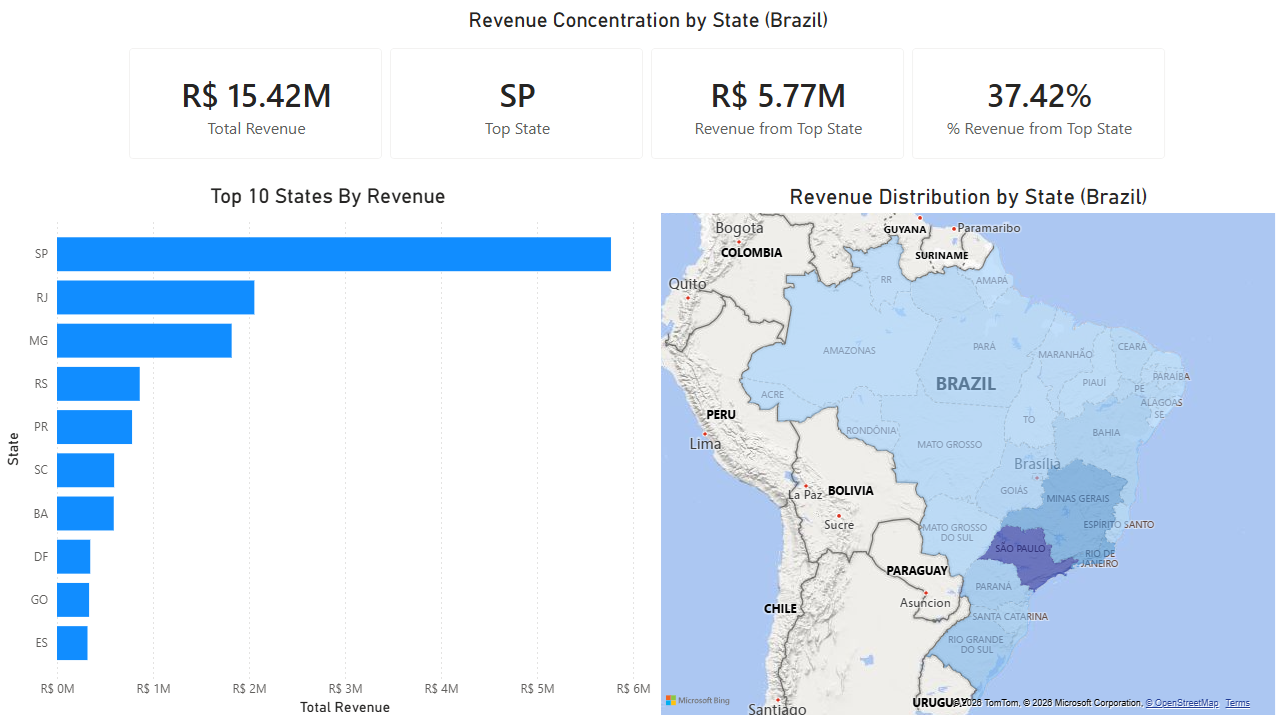

Layout of this report page (visuals, bound fields, positions):
{"tool":"powerbi","page":{"name":"Geographic Revenue","canvas":[1280,720],"ordinal":1},"visuals":[{"type":"filledMap","title":"Revenue Distribution by State (Brazil)","fields":{"Category":["public revenue_by_state.Location"]},"box":[656,176,624,544],"z":0},{"type":"barChart","title":"Top 10 States By Revenue","fields":{"Y":["Sum(revenue_by_state.revenue)"],"Category":["revenue_by_state.customer_state"]},"box":[0,176,656,544],"z":1000},{"type":"cardVisual","title":"Revenue Concentration by State (Brazil)","fields":{"Data":["revenue_by_state.Total Revenue","revenue_by_state.Top State","Max(revenue_by_state.revenue)","revenue_by_state.% Revenue from Top State"]},"box":[112,0,1072,176],"z":2000}]}

Visuals, with their boxes in screenshot pixels (x1, y1, x2, y2), scaled from the page's 1280x720 canvas onto the 1279x717 screenshot:
"Revenue Distribution by State (Brazil)" filledMap: select_region(655, 175, 1278, 716)
"Top 10 States By Revenue" barChart: select_region(0, 175, 655, 716)
"Revenue Concentration by State (Brazil)" cardVisual: select_region(112, 0, 1183, 175)
